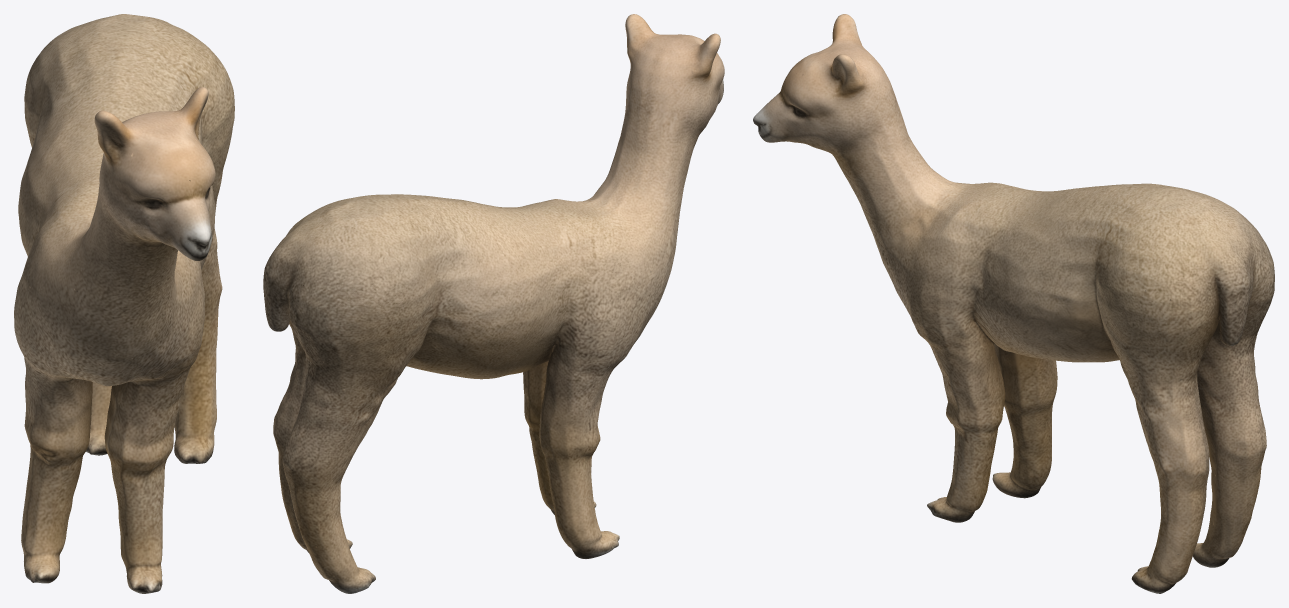
Rendered from alpaca.glb.
3 renders of one model, left to right at view 1: azimuth 30°, elevation 25°; view 2: azimuth 150°, elevation 25°; view 3: azimuth 270°, elevation 25°, orthographic. The views are drawn at different scales.
Visible parts, largest first — view 1: world; view 2: world; view 3: world.
Boxes of the visible parts, <box> form: world: <box>14,14,234,593</box>; world: <box>263,14,724,593</box>; world: <box>753,14,1274,593</box>.
Bounding box in the file's own units: 0.6032 × 0.9798 × 1.
Materials: 1 (1 with a texture image).
